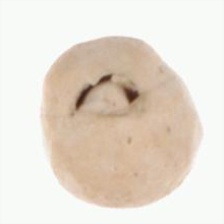L3: (70, 71, 145, 120)
L4: (40, 36, 204, 209)
